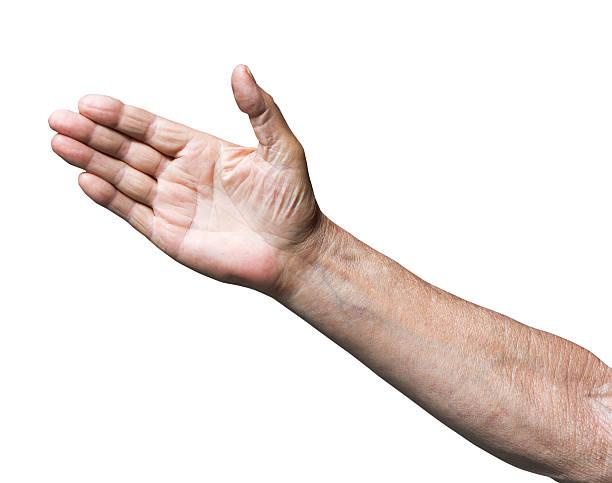paper: (38, 54, 322, 300)
